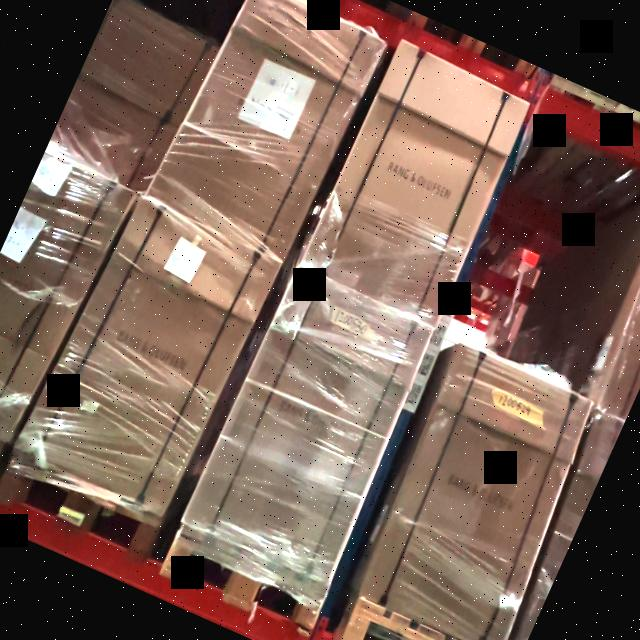box: (14, 196, 282, 517), (182, 267, 436, 591), (356, 344, 592, 640), (301, 40, 531, 327), (147, 0, 386, 265)
